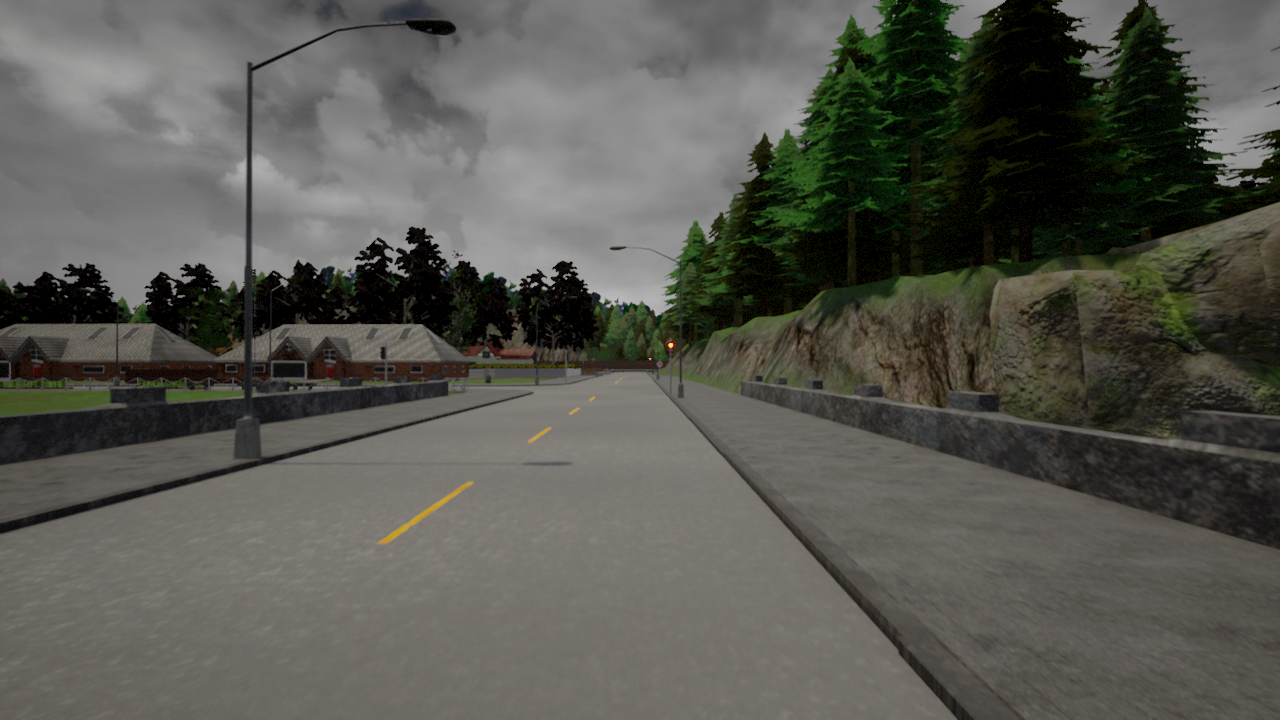red: (667, 342, 674, 358)
